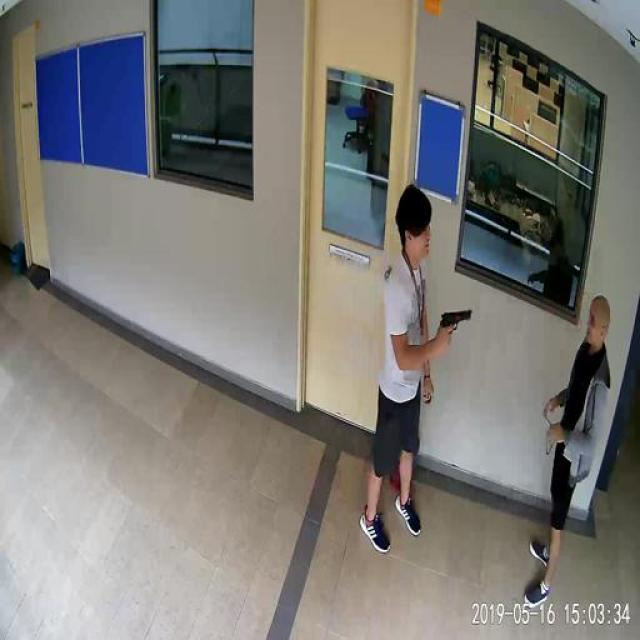Gun: (432, 300, 480, 347)
